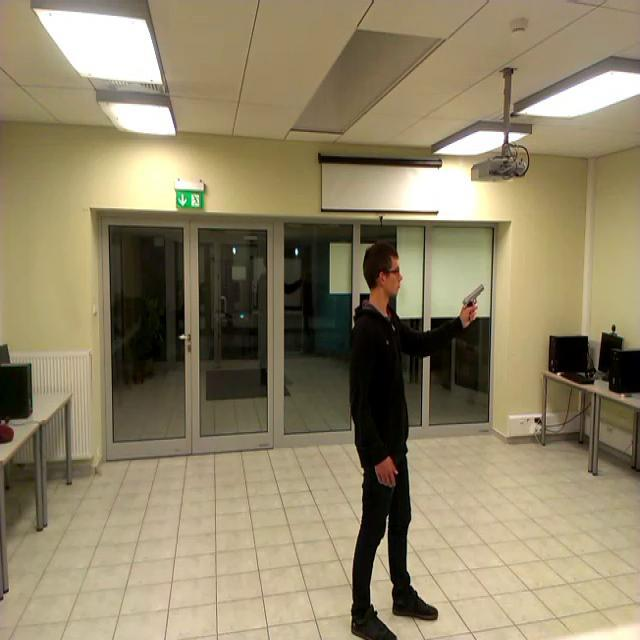Gun: (463, 282, 486, 320)
